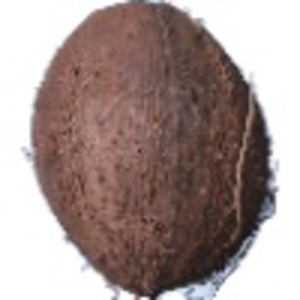coco: (24, 1, 278, 300)
